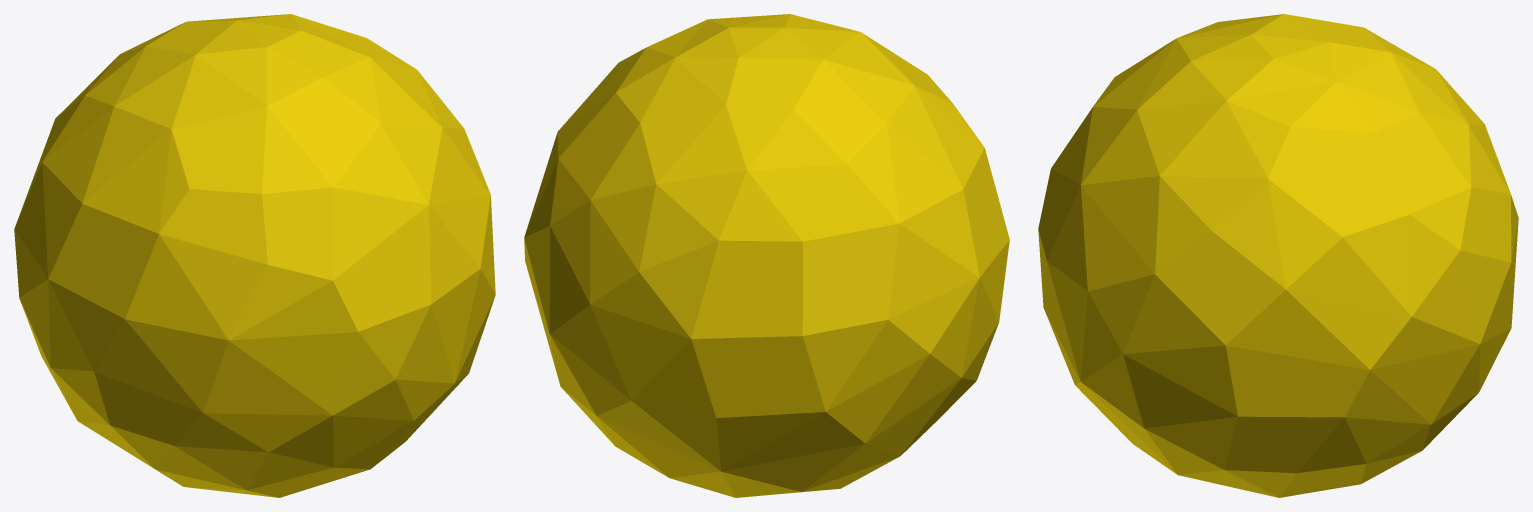
Rendered from sun.glb.
3 renders of one model, left to right at view 1: azimuth 30°, elevation 25°; view 2: azimuth 150°, elevation 25°; view 3: azimuth 270°, elevation 25°, orthographic.
Parts seen in each view (by area): view 1: Sphere; view 2: Sphere; view 3: Sphere.
Part boxes in pixels (left/top/right/bottom): Sphere: left=14, top=14, right=495, bottom=497; Sphere: left=524, top=14, right=1009, bottom=497; Sphere: left=1038, top=14, right=1518, bottom=497.
Size of the model in its own units: 199 by 200 by 199.
